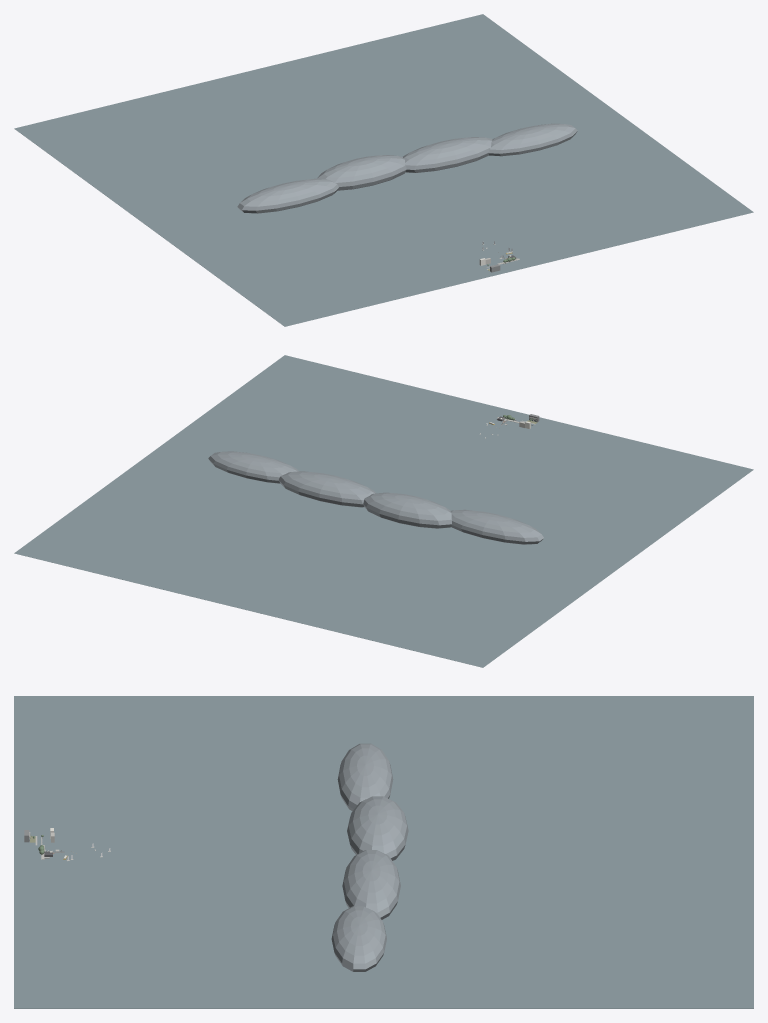
3 views of the same model, one above another, from view 1: azimuth 30°, elevation 25°; view 2: azimuth 150°, elevation 25°; view 3: azimuth 270°, elevation 25° (orthographic). The views are drawn at different scales.
Parts seen in each view (by area): view 1: S02_Lake_Water, S02_Distant_Hills_0, S02_Distant_Hills_2, S02_Distant_Hills_1, S02_Distant_Hills_3; view 2: S02_Lake_Water, S02_Distant_Hills_1, S02_Distant_Hills_2, S02_Distant_Hills_0, S02_Distant_Hills_3; view 3: S02_Lake_Water, S02_Distant_Hills_2, S02_Distant_Hills_1, S02_Distant_Hills_3, S02_Distant_Hills_0.
Boxes of the visible parts, left/top/right/bottom form: S02_Lake_Water: left=14, top=14, right=753, bottom=326; S02_Distant_Hills_0: left=237, top=178, right=339, bottom=213; S02_Distant_Hills_2: left=403, top=137, right=492, bottom=172; S02_Distant_Hills_1: left=317, top=155, right=406, bottom=190; S02_Distant_Hills_3: left=488, top=123, right=577, bottom=156; S02_Lake_Water: left=14, top=355, right=753, bottom=667; S02_Distant_Hills_1: left=363, top=492, right=451, bottom=528; S02_Distant_Hills_2: left=278, top=471, right=375, bottom=507; S02_Distant_Hills_0: left=450, top=509, right=543, bottom=544; S02_Distant_Hills_3: left=208, top=451, right=298, bottom=483; S02_Lake_Water: left=14, top=696, right=753, bottom=1008; S02_Distant_Hills_2: left=342, top=850, right=400, bottom=919; S02_Distant_Hills_1: left=347, top=796, right=408, bottom=860; S02_Distant_Hills_3: left=331, top=906, right=386, bottom=971; S02_Distant_Hills_0: left=337, top=743, right=393, bottom=810.
Size of the model in its own units: 1200 by 60 by 1200.
